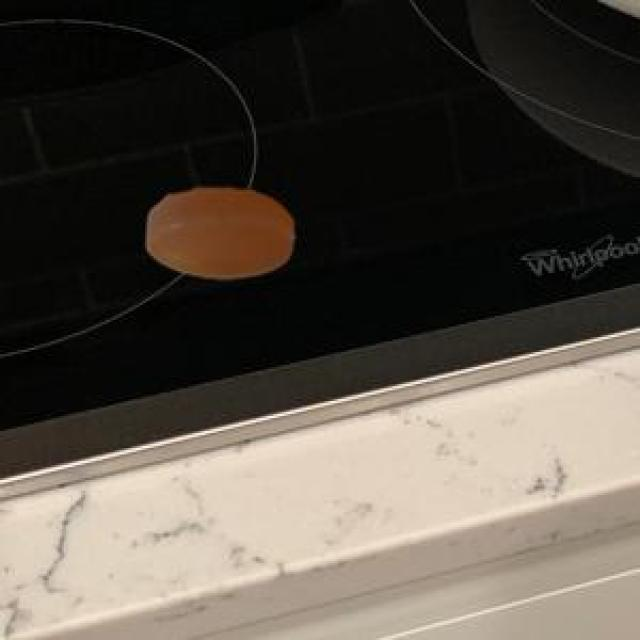Bactidol: (125, 166, 312, 292)
